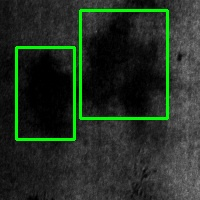patches: (80, 10, 167, 118), (17, 47, 74, 139)
